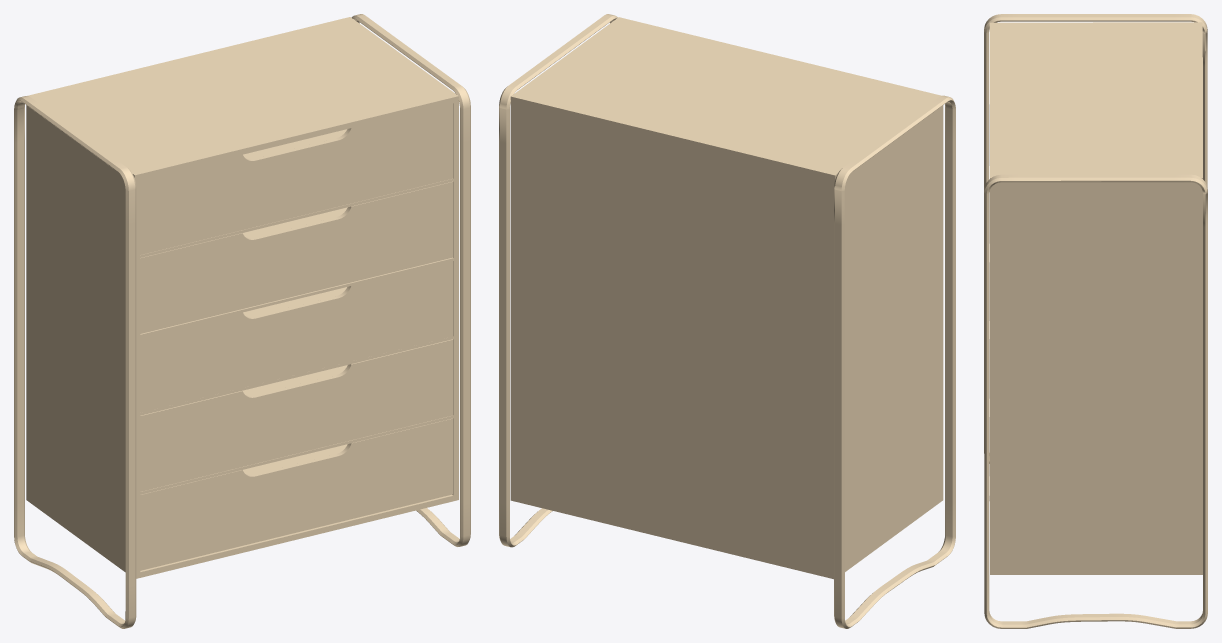
Rendered from IKEA-Anes_Chest_Of_4_Drawers-3D.DAE.
3 views of the same model, side by side, from view 1: azimuth 30°, elevation 25°; view 2: azimuth 150°, elevation 25°; view 3: azimuth 270°, elevation 25° (orthographic).
Visible parts, largest first — view 1: Rectangle05, Box01; view 2: Box01; view 3: Box01.
Boxes of the visible parts, x1,y1,x2,y2 form: Rectangle05: (140, 103, 452, 570); Box01: (14, 14, 470, 628); Box01: (499, 14, 955, 628); Box01: (984, 14, 1207, 628).
Size of the model in its own units: 897 by 1138 by 512.
